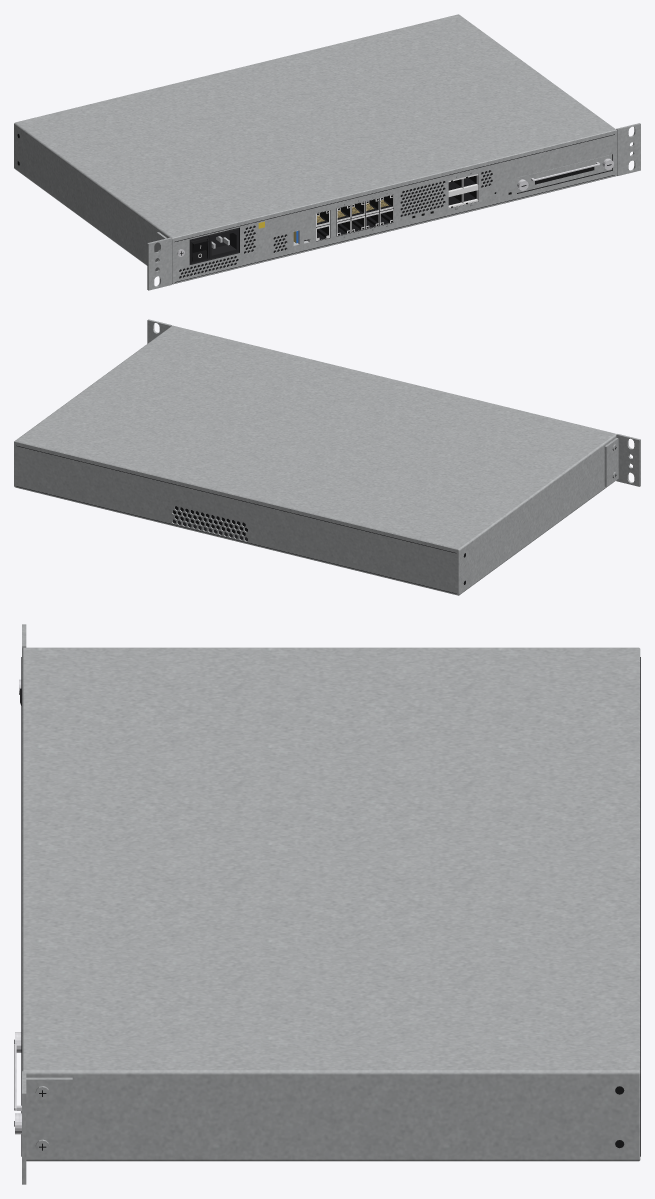
The model's file is FPR1120-NGFW-K9.glb.
3 renders of one model, top to bottom at view 1: azimuth 30°, elevation 25°; view 2: azimuth 150°, elevation 25°; view 3: azimuth 270°, elevation 25°, orthographic. The views are drawn at different scales.
Parts seen in each view (by area): view 1: Shell, Rack_Ears; view 2: Shell, Rack_Ears; view 3: Shell, Rack_Ears.
Boxes of the visible parts, box(x1,y1,x2,y2) form: Shell: box(14, 14, 617, 284); Rack_Ears: box(147, 123, 640, 290); Shell: box(14, 325, 616, 595); Rack_Ears: box(147, 319, 640, 486); Shell: box(14, 647, 640, 1161); Rack_Ears: box(22, 624, 72, 1184).
Bounding box in the file's own units: 0.4826 × 0.0437 × 0.2724.
13 materials, 2 textured.
